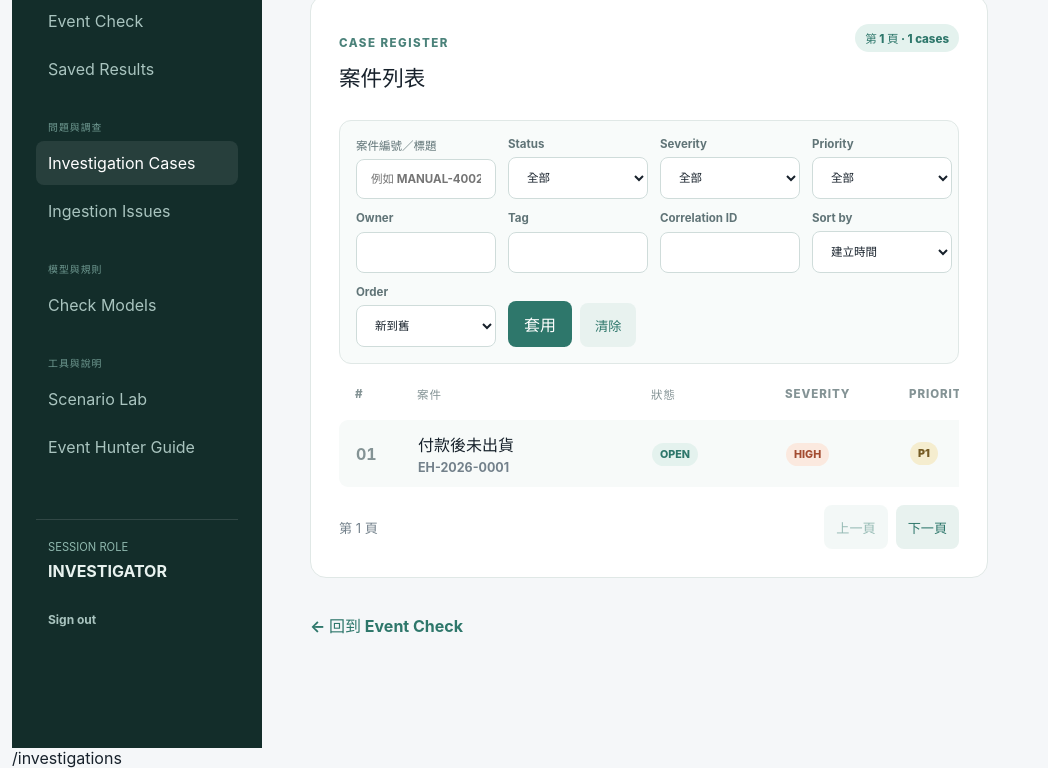
InvestigationsPage › uses the next cursor and keeps row sequence numbers across pages
The width and height of the screenshot is (1048, 768).
(page scrolled)
Expected: the text "付款後未出貨" is shown, [418,435,514,455]
Click the button "下一頁" at (927, 527), box [896,505,959,549]
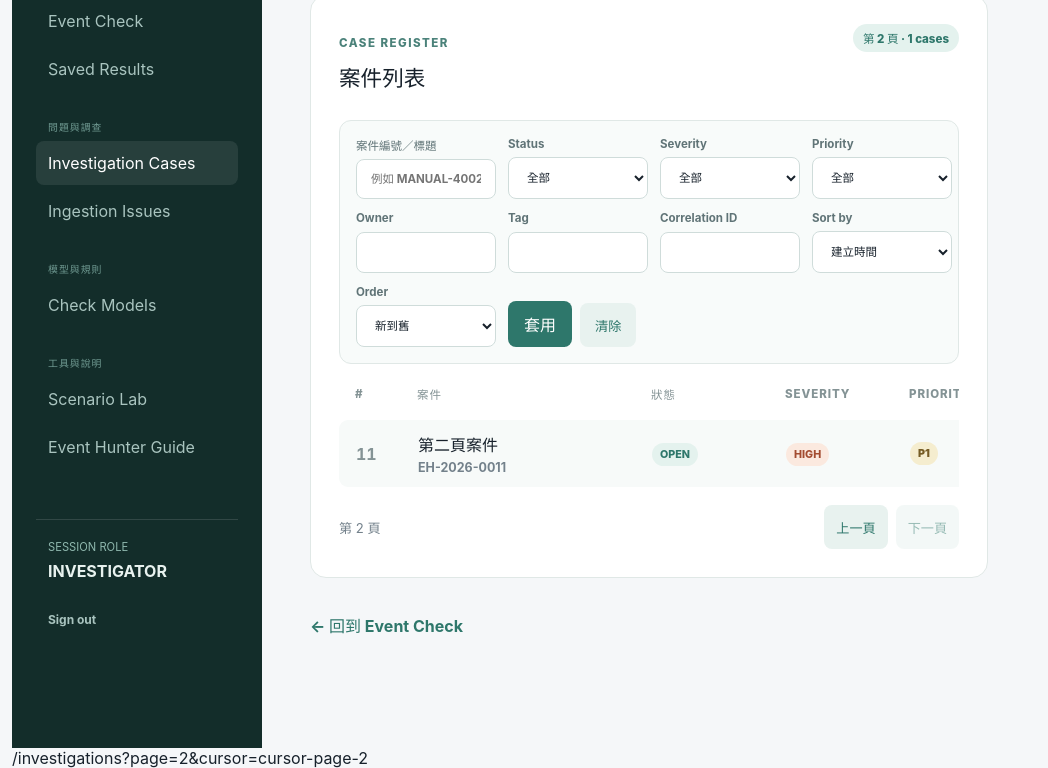
Now the text "第二頁案件" is shown, box [418,435,498,455]
Now the text "11" is shown, box [356,444,377,464]
